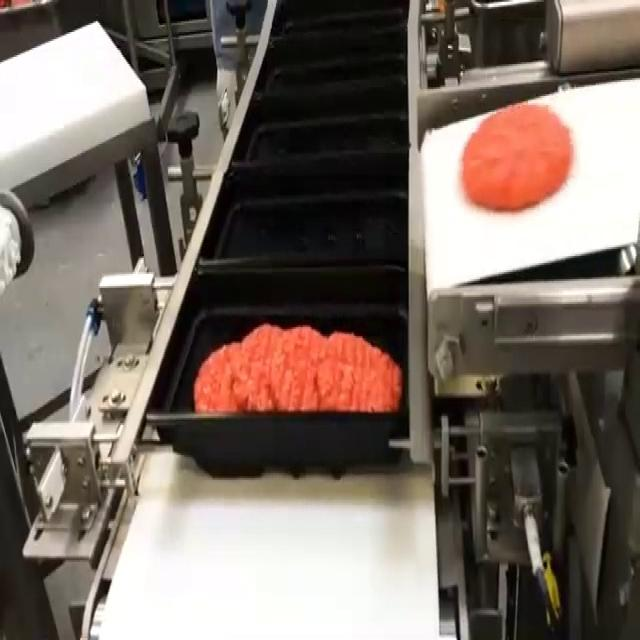4-hamburguer: (193, 324, 402, 411)
